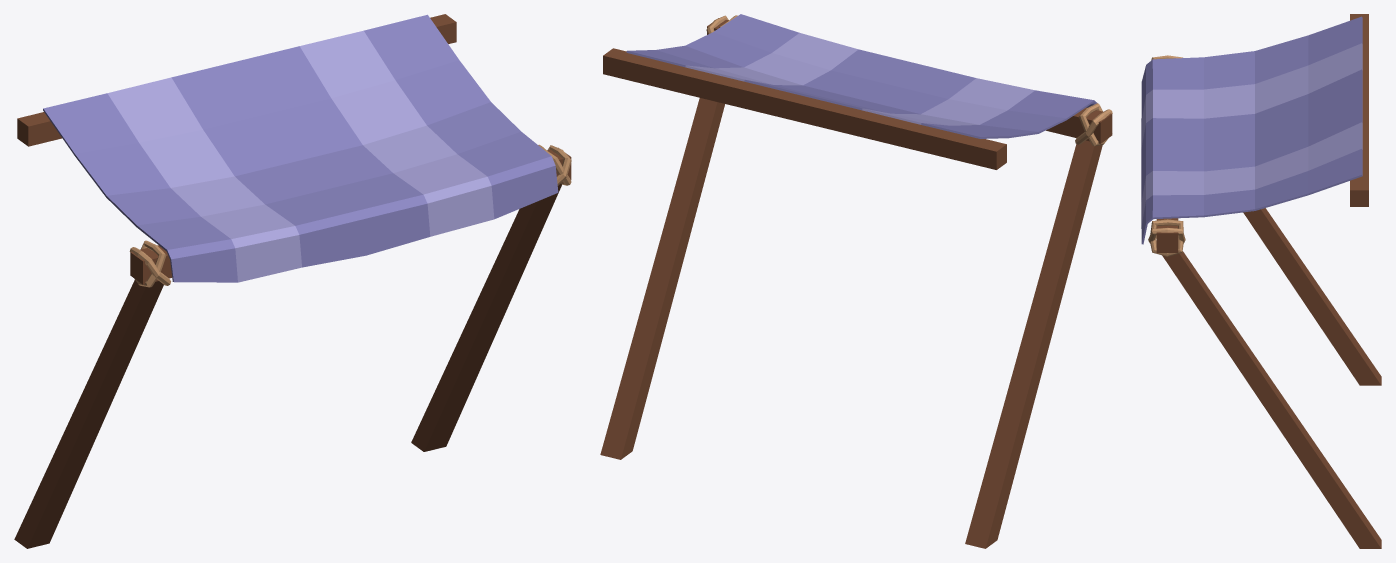
File: Tent_04.fbx
3 renders of one model, left to right at view 1: azimuth 30°, elevation 25°; view 2: azimuth 150°, elevation 25°; view 3: azimuth 270°, elevation 25°, orthographic. The views are drawn at different scales.
Parts seen in each view (by area): view 1: Tent_04; view 2: Tent_04; view 3: Tent_04.
Boxes of the visible parts, x1,y1,x2,y2 form: Tent_04: [14, 14, 571, 548]; Tent_04: [600, 14, 1112, 548]; Tent_04: [1141, 14, 1381, 548].
Size of the model in its own units: 120 by 116 by 68.99.
